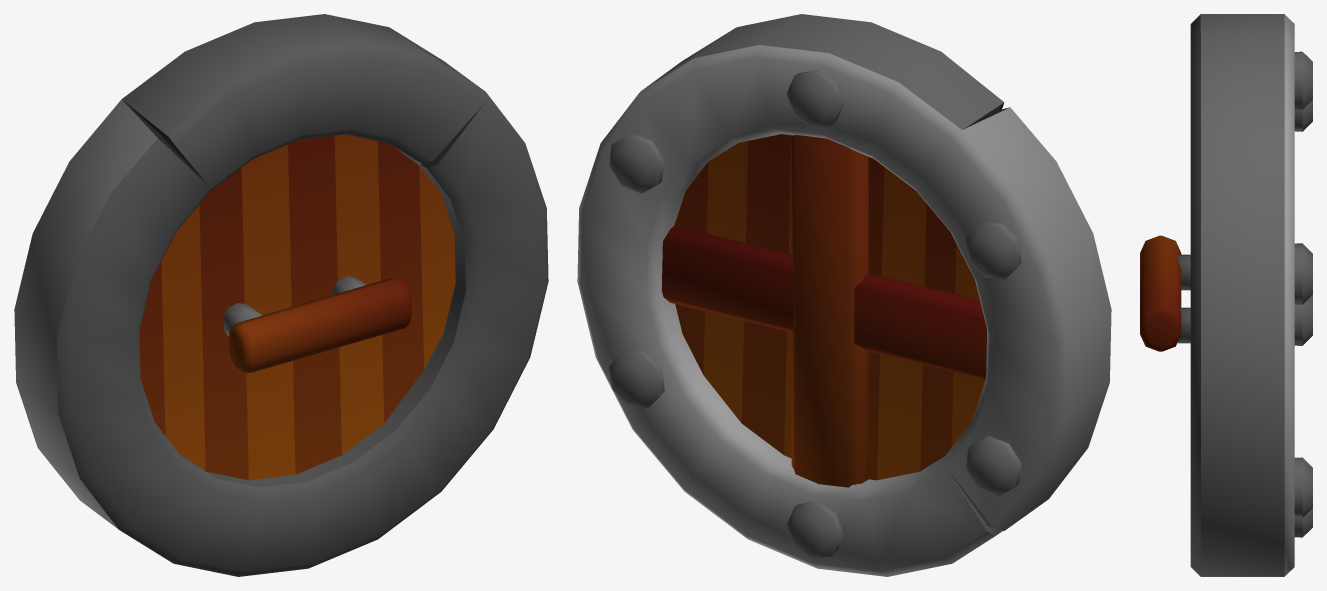
File: Shield_V2_0.fbx
3 renders of one model, left to right at view 1: azimuth 30°, elevation 25°; view 2: azimuth 150°, elevation 25°; view 3: azimuth 270°, elevation 25°, orthographic.
Visible parts, largest first — view 1: Shield_V2_0; view 2: Shield_V2_0; view 3: Shield_V2_0.
Part boxes in pixels (bbox=[...]): Shield_V2_0: bbox=[14, 14, 548, 576]; Shield_V2_0: bbox=[577, 14, 1111, 576]; Shield_V2_0: bbox=[1140, 14, 1312, 576].
Size of the model in its own units: 0.4452 by 0.4482 by 0.1366.
